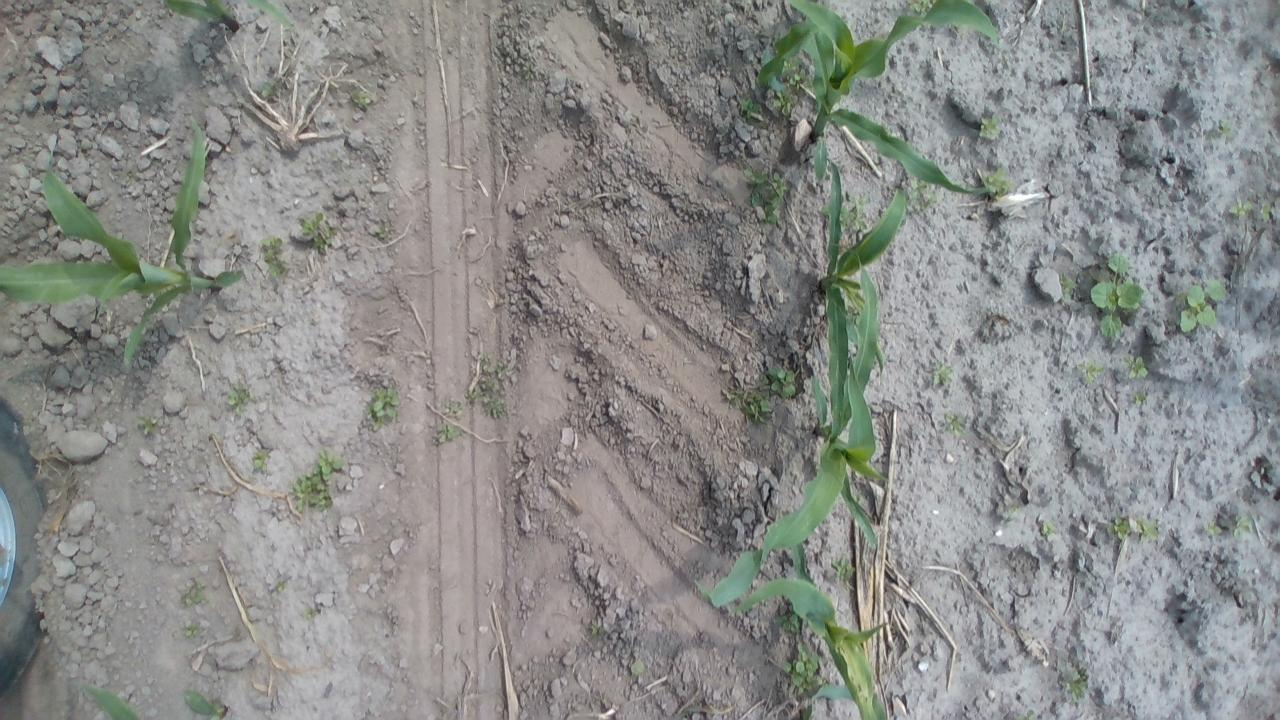Maize: (693, 252, 914, 616), (1, 113, 250, 374), (751, 0, 1004, 210), (722, 527, 898, 720), (814, 153, 920, 448), (66, 685, 232, 720), (156, 0, 298, 39)
Weeds: (1090, 254, 1150, 343), (459, 348, 513, 427), (289, 446, 343, 515), (740, 166, 791, 229), (1177, 272, 1223, 338), (780, 644, 826, 702), (360, 380, 402, 436), (295, 210, 341, 254), (716, 386, 772, 422), (1104, 513, 1162, 542), (766, 364, 802, 406), (838, 190, 870, 235), (258, 235, 290, 279), (371, 214, 409, 249), (222, 380, 255, 419), (926, 356, 958, 393), (772, 604, 806, 638), (906, 173, 937, 209), (770, 85, 799, 123), (134, 410, 164, 444), (983, 166, 1015, 196), (939, 408, 972, 437), (978, 109, 1004, 145), (1054, 273, 1079, 310), (178, 578, 205, 612), (431, 421, 463, 449), (1064, 670, 1088, 706), (1075, 358, 1103, 388), (1123, 352, 1149, 383), (256, 76, 280, 108), (248, 447, 273, 477), (1035, 511, 1057, 543), (1232, 513, 1256, 542), (300, 600, 324, 628), (830, 554, 854, 582), (585, 613, 608, 642), (1227, 194, 1254, 218), (738, 92, 759, 122), (780, 62, 804, 88), (1208, 117, 1234, 141), (348, 87, 373, 110), (273, 572, 293, 600), (1200, 519, 1224, 541), (625, 656, 648, 678), (179, 621, 202, 642), (443, 397, 463, 419), (1256, 197, 1273, 222), (1128, 390, 1151, 408), (913, 0, 932, 15)
